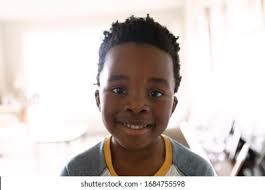person: (93, 16, 183, 152)
